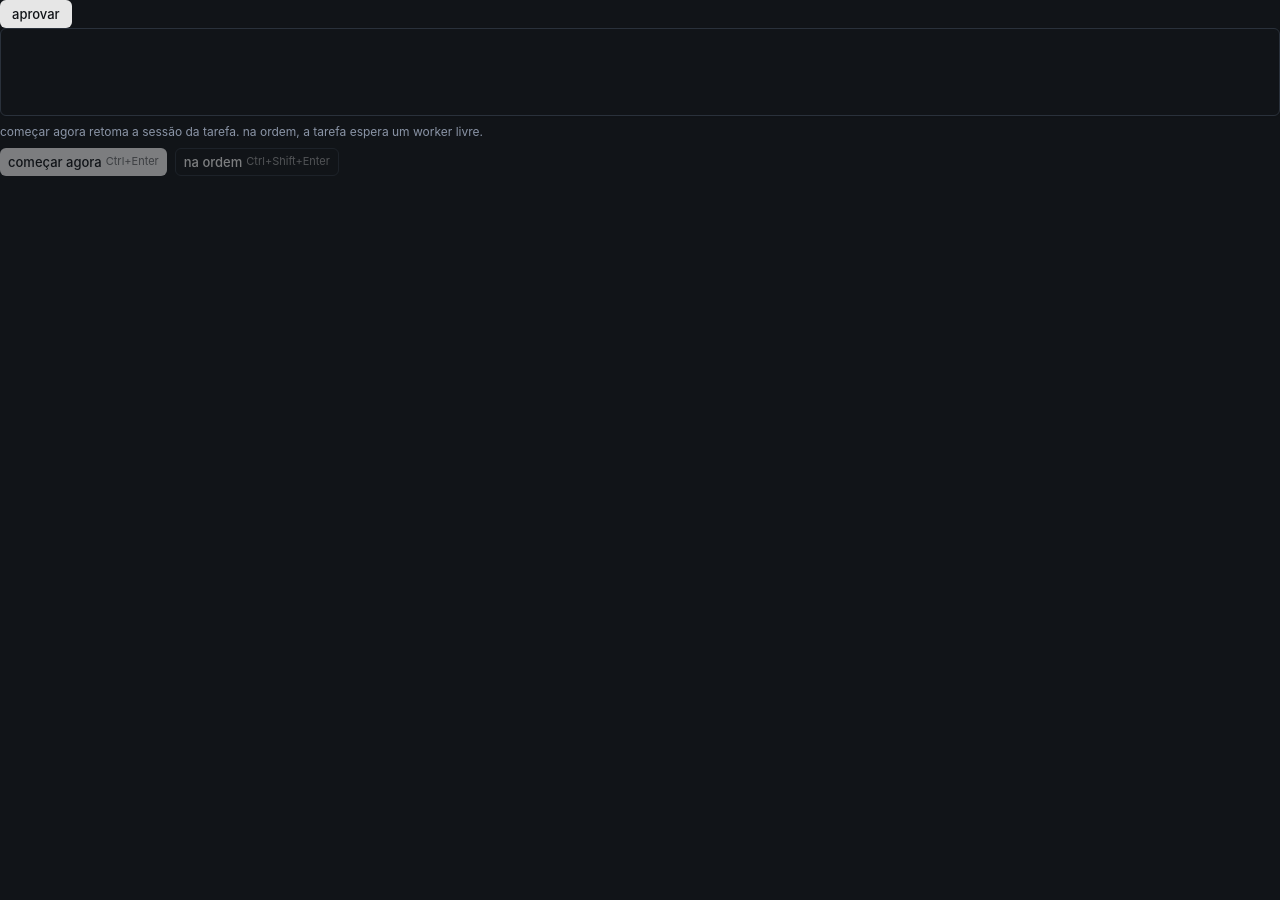
it: an approve in run mode asks first and sends nothing; aprovar e registrar sends it, the re-read counts 1, and the next ask is a new one (#469)
Click the button "aprovar".
click(36, 14)  # box 0,0 -> 72,28
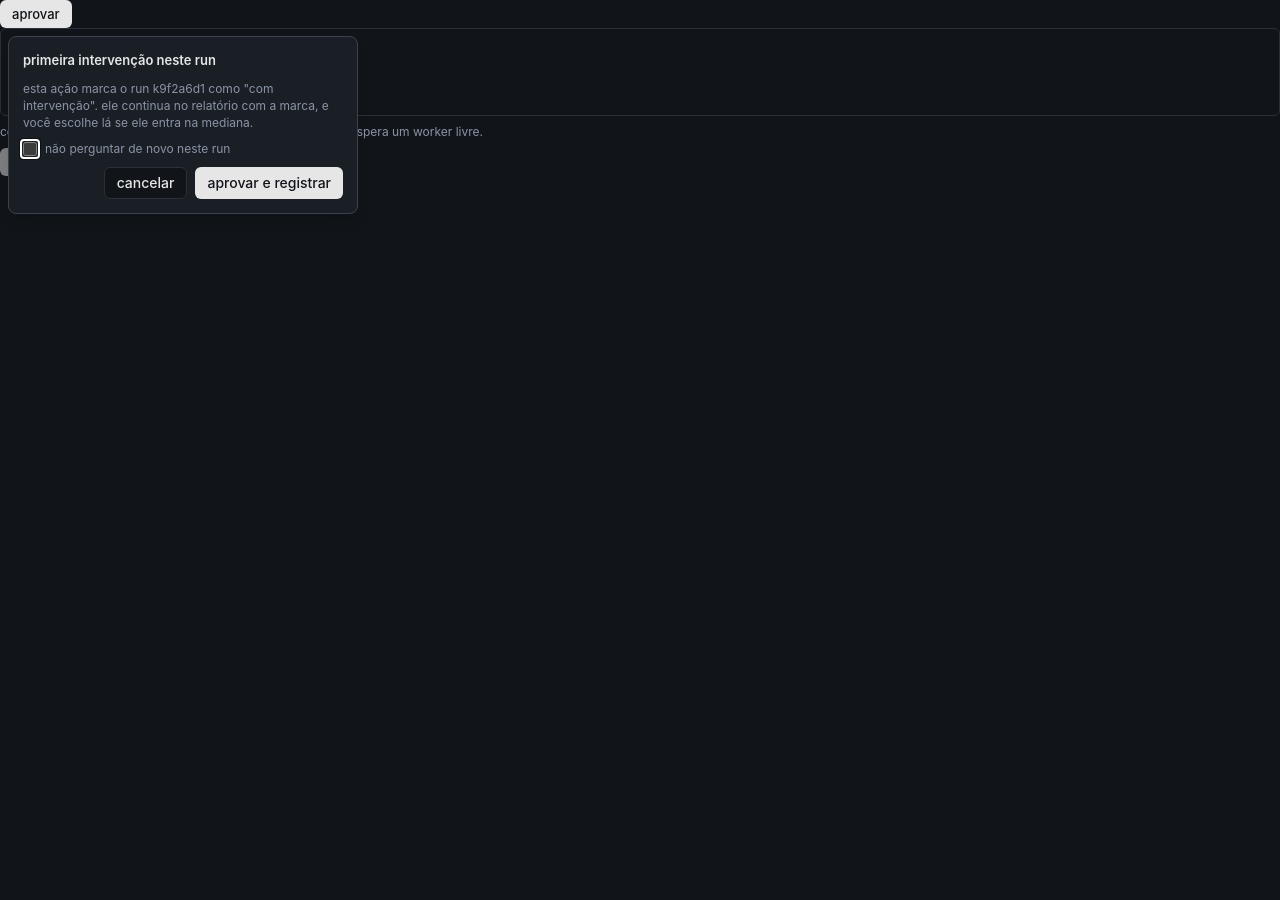
Result: the text "run k9f2a6d1" is shown at 23,81 -> 329,130
Click the button "aprovar e registrar".
click(269, 183)  # box 196,167 -> 343,199
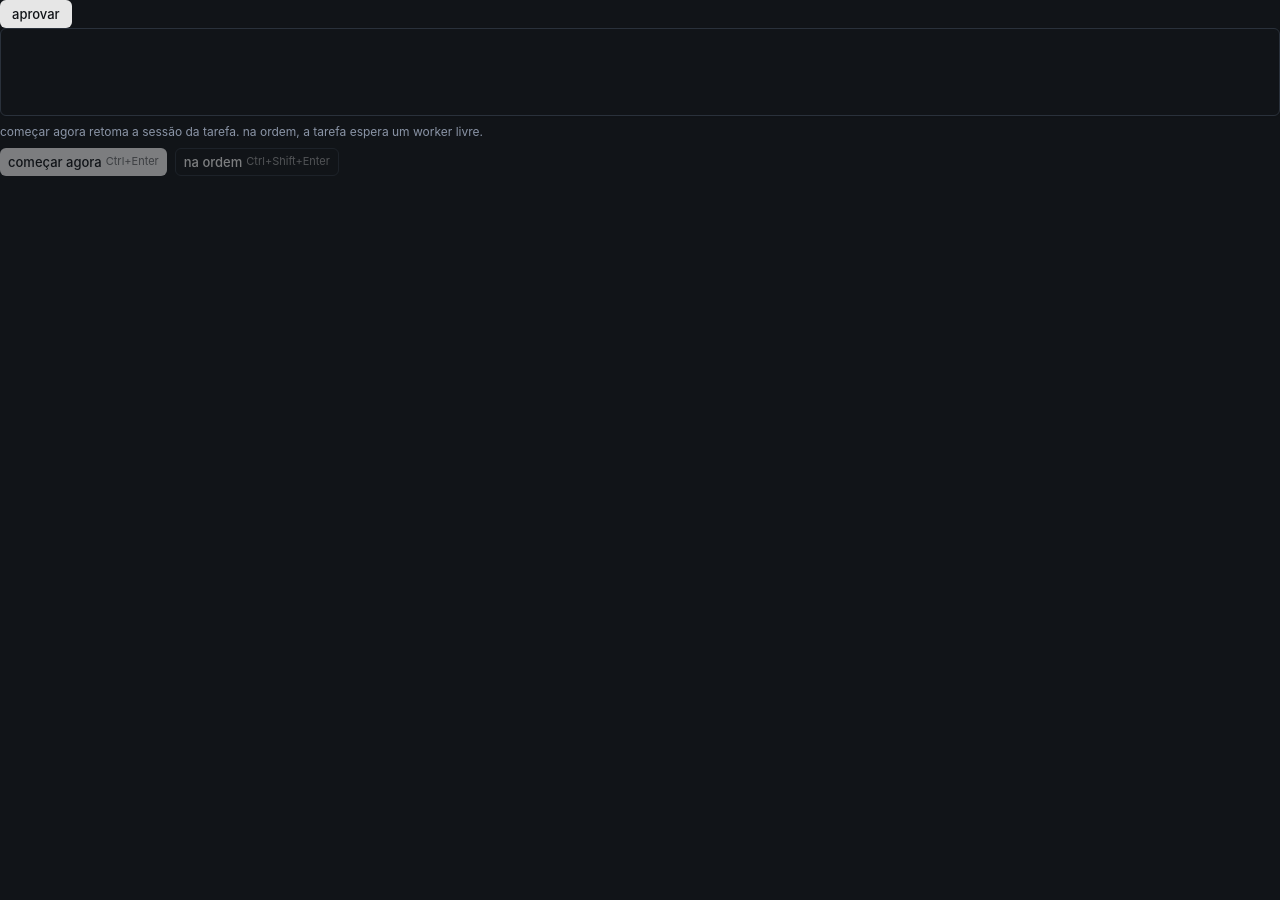
Click the button "aprovar".
click(36, 14)  # box 0,0 -> 72,28
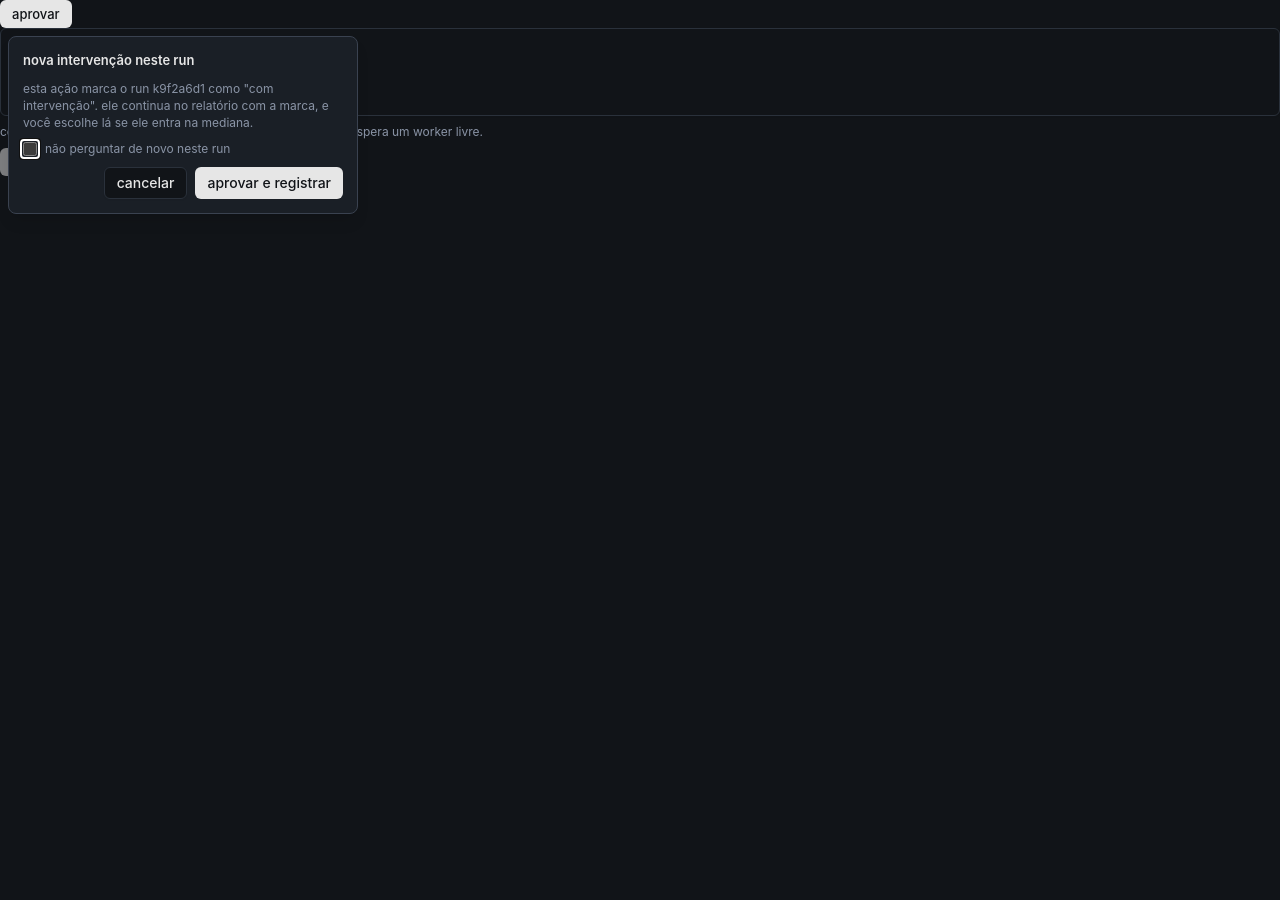
Result: the dialog "nova intervenção neste run" is shown at 8,36 -> 358,214
